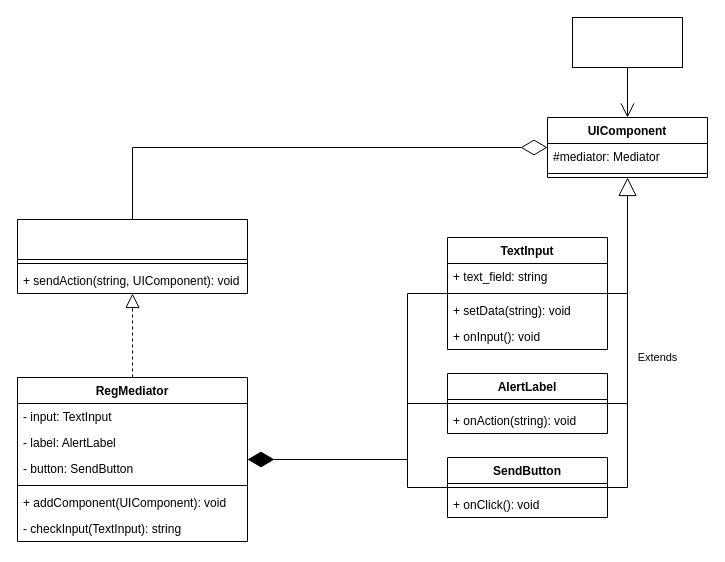
Some shapes in this 725 by 562 pixel diagram are drawn without their labels. Here are the shapes that lost their labels. From the top down, the box of each, then its label:
(572, 16, 682, 68): Client
(16, 218, 248, 294): <<interface>> Mediator
